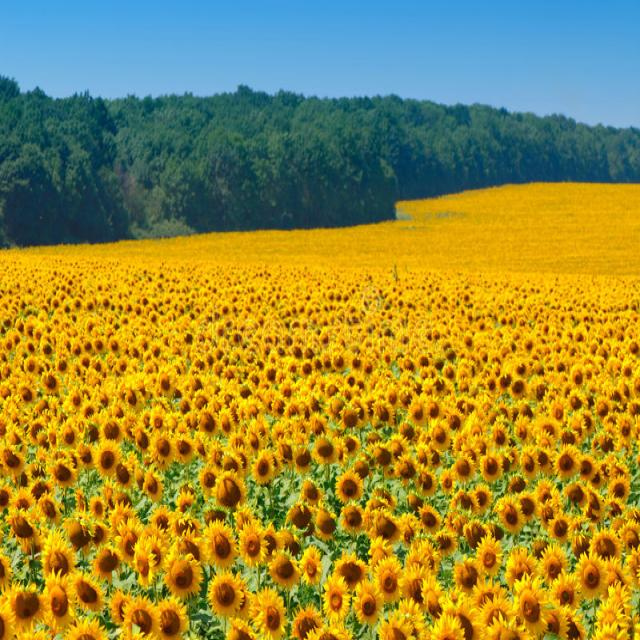sunflower: (29, 570, 80, 640), (38, 523, 77, 585), (202, 566, 242, 624), (164, 542, 201, 602), (509, 573, 542, 640), (321, 569, 351, 632), (570, 543, 603, 599), (95, 446, 131, 496), (69, 570, 107, 614), (204, 518, 237, 568), (372, 555, 402, 609), (472, 530, 502, 583), (241, 520, 270, 574), (253, 590, 284, 640), (337, 467, 368, 509), (552, 446, 582, 488), (130, 538, 154, 590), (494, 492, 520, 538), (426, 412, 452, 456), (517, 440, 540, 488), (247, 452, 279, 486), (46, 454, 76, 490), (150, 434, 177, 471), (195, 464, 222, 500), (606, 473, 634, 507), (480, 447, 503, 487), (312, 436, 338, 466)
